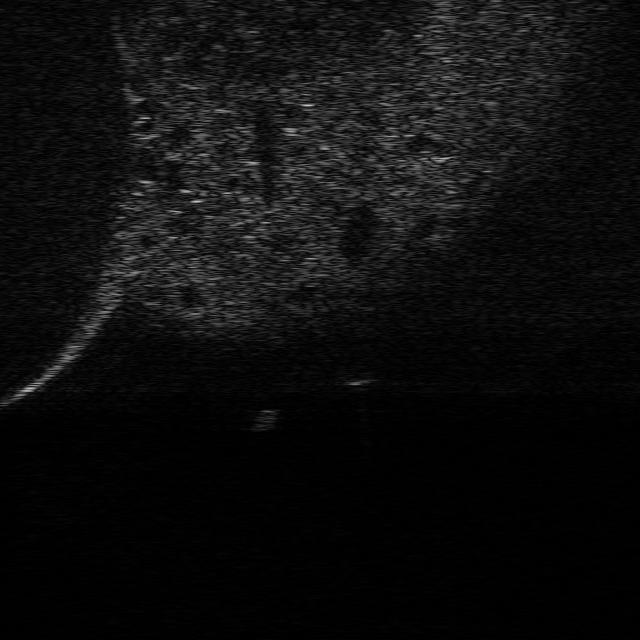cube: (335, 365, 373, 390)
cylinder: (252, 406, 278, 434)
